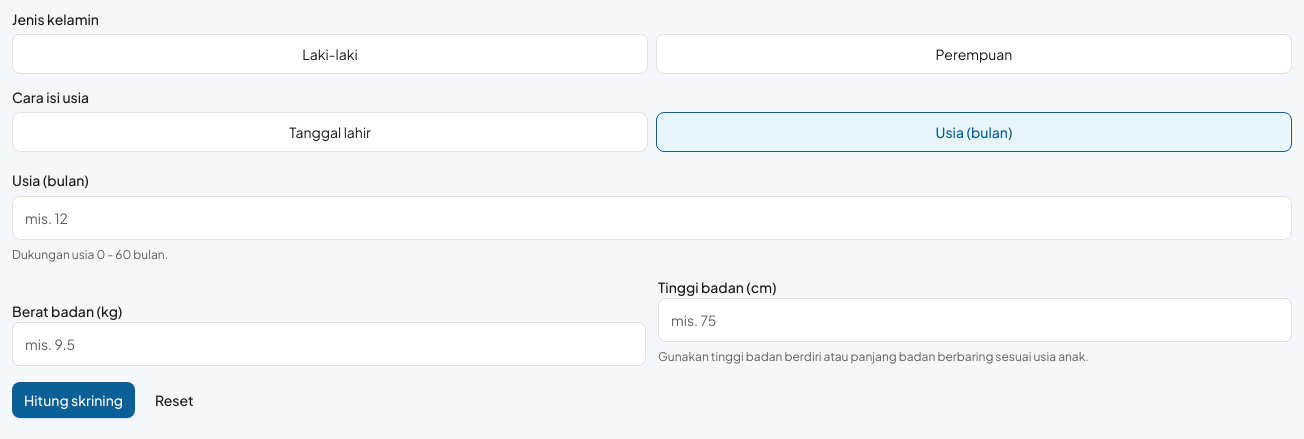
CekCepatForm › rejects decimal age input without truncating it
Click the radio button labelled "Laki-laki": [330, 54] box [12,34,648,74]
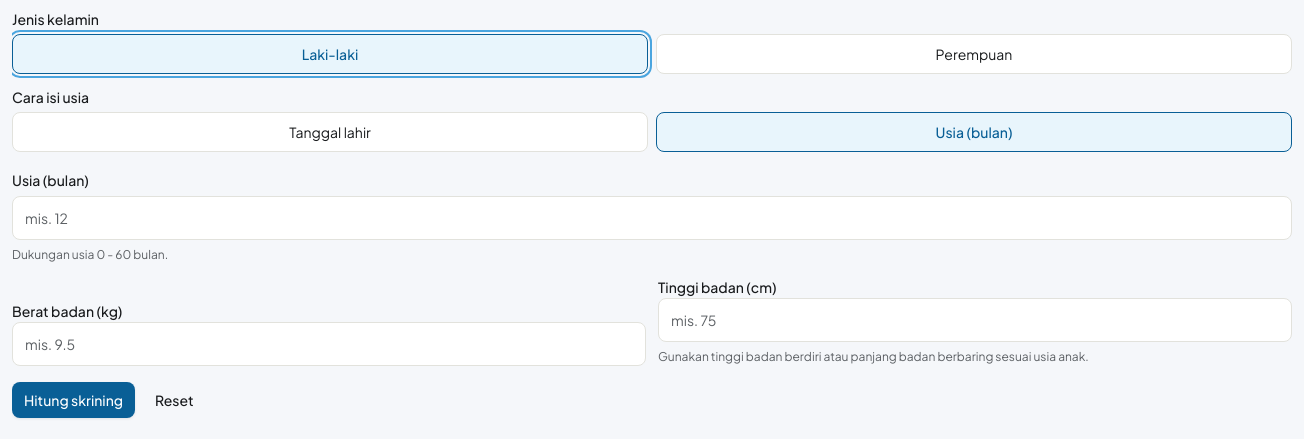
In the number field labelled "Usia (bulan)": [652, 218] box [12,196,1292,240], type "12.5"
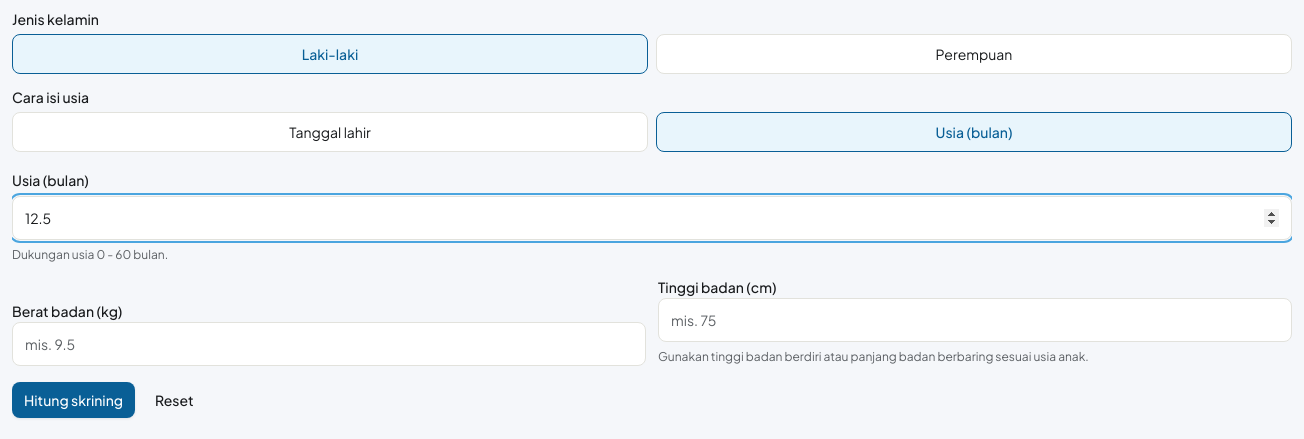
In the number field labelled "Berat badan (kg)": [329, 344] box [12,322,646,366], type "10"
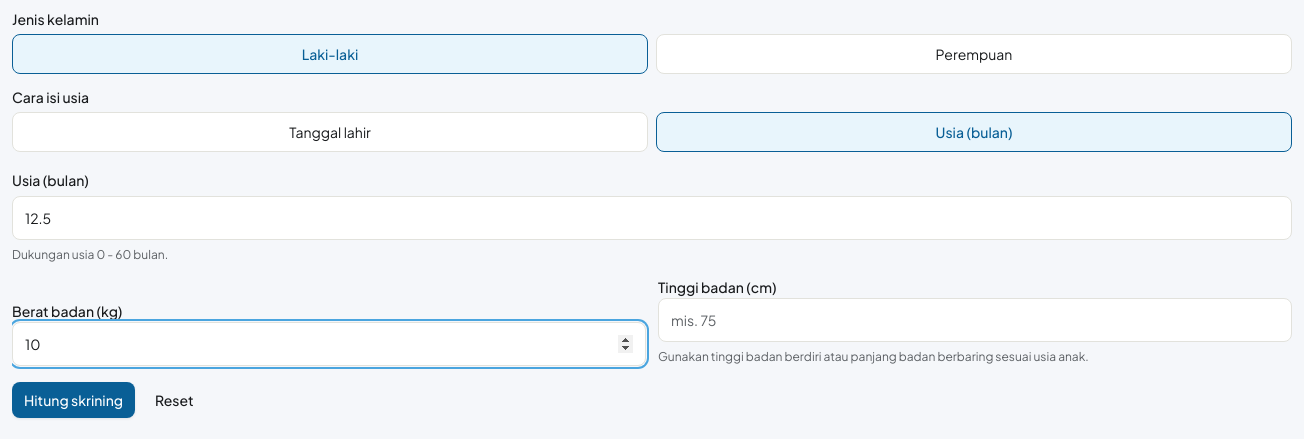
Click the button "Hitung skrining": [74, 400] box [12,382,135,418]
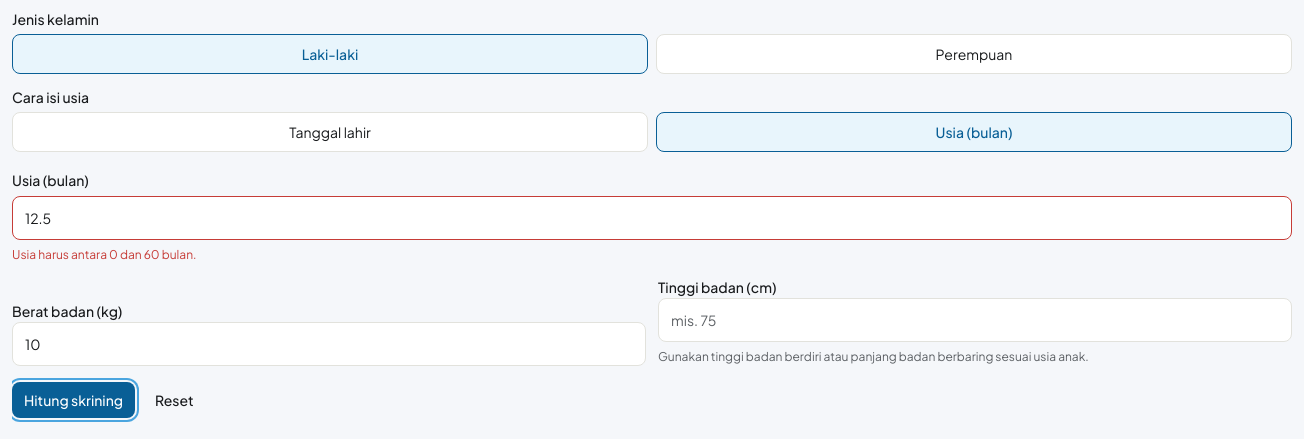
Expected: the text "Usia harus antara 0 dan 60 bulan." is shown, [12,247,196,262]
